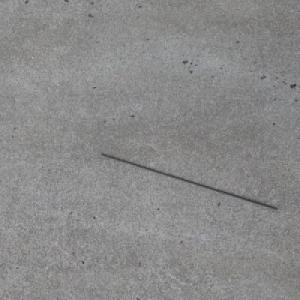LuggagePart: (99, 152, 278, 210)
